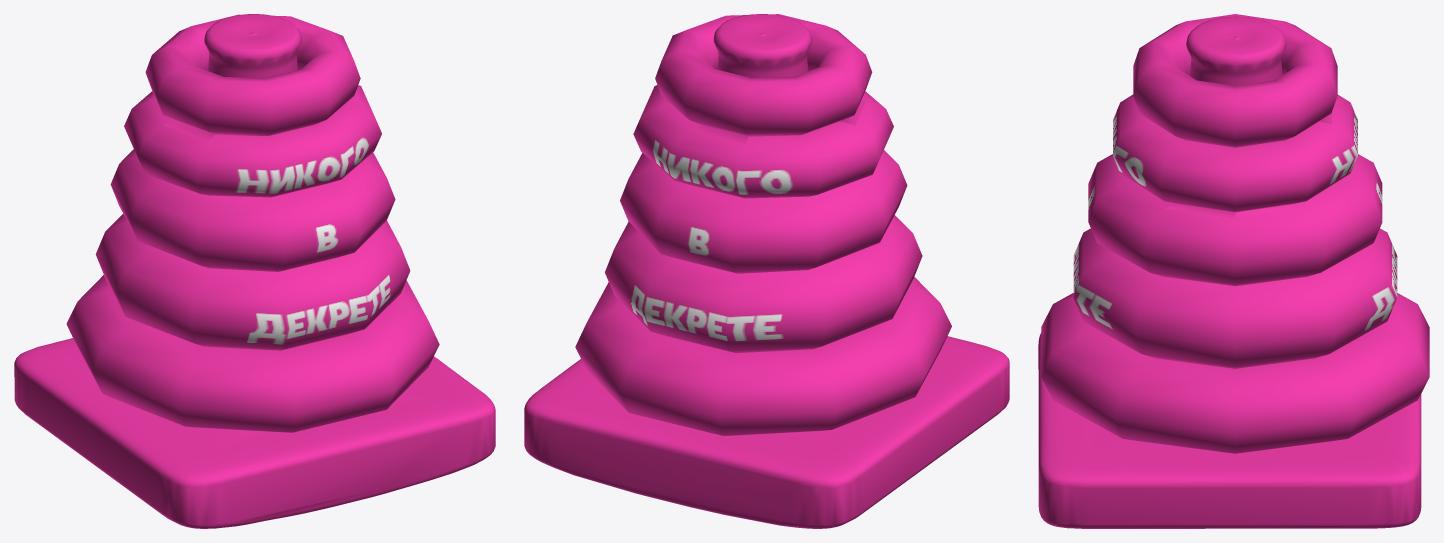
The model's file is Toy_v2.fbx.
The picture shows the model from 3 angles, left to right: view 1: azimuth 30°, elevation 25°; view 2: azimuth 150°, elevation 25°; view 3: azimuth 270°, elevation 25°; orthographic projection. The views are drawn at different scales.
Parts seen in each view (by area): view 1: Torus; view 2: Torus; view 3: Torus.
Part boxes in pixels (x1=…): Torus: x1=14, y1=14, x2=495, y2=528; Torus: x1=524, y1=14, x2=1009, y2=528; Torus: x1=1038, y1=14, x2=1429, y2=528.
Size of the model in its own units: 54.42 by 64.83 by 54.12.
1 material, 1 textured.
